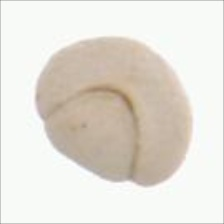L5: (41, 87, 143, 182)
L6: (32, 35, 195, 190)
